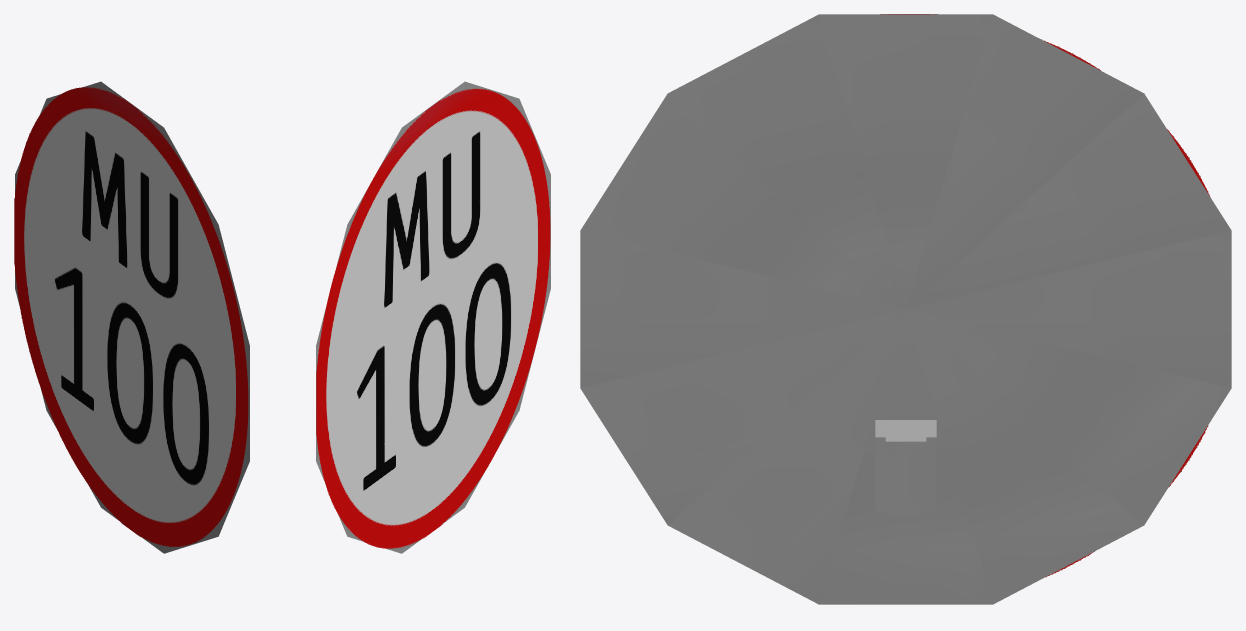
File: speed_100_mu_large.obj
The picture shows the model from 3 angles, left to right: view 1: azimuth 30°, elevation 25°; view 2: azimuth 150°, elevation 25°; view 3: azimuth 270°, elevation 25°; orthographic projection. The views are drawn at different scales.
Parts seen in each view (by area): view 1: cube, circle; view 2: cube, circle; view 3: circle, cube.
Part boxes in pixels (x1,y1,x2,y2): cube: [14, 87, 248, 547]; circle: [15, 81, 249, 553]; cube: [316, 88, 550, 548]; circle: [316, 81, 550, 553]; circle: [580, 14, 1231, 604]; cube: [875, 14, 1209, 577].
Size of the model in its own units: 0.0797 by 1 by 1.
2 materials, 2 textured.
